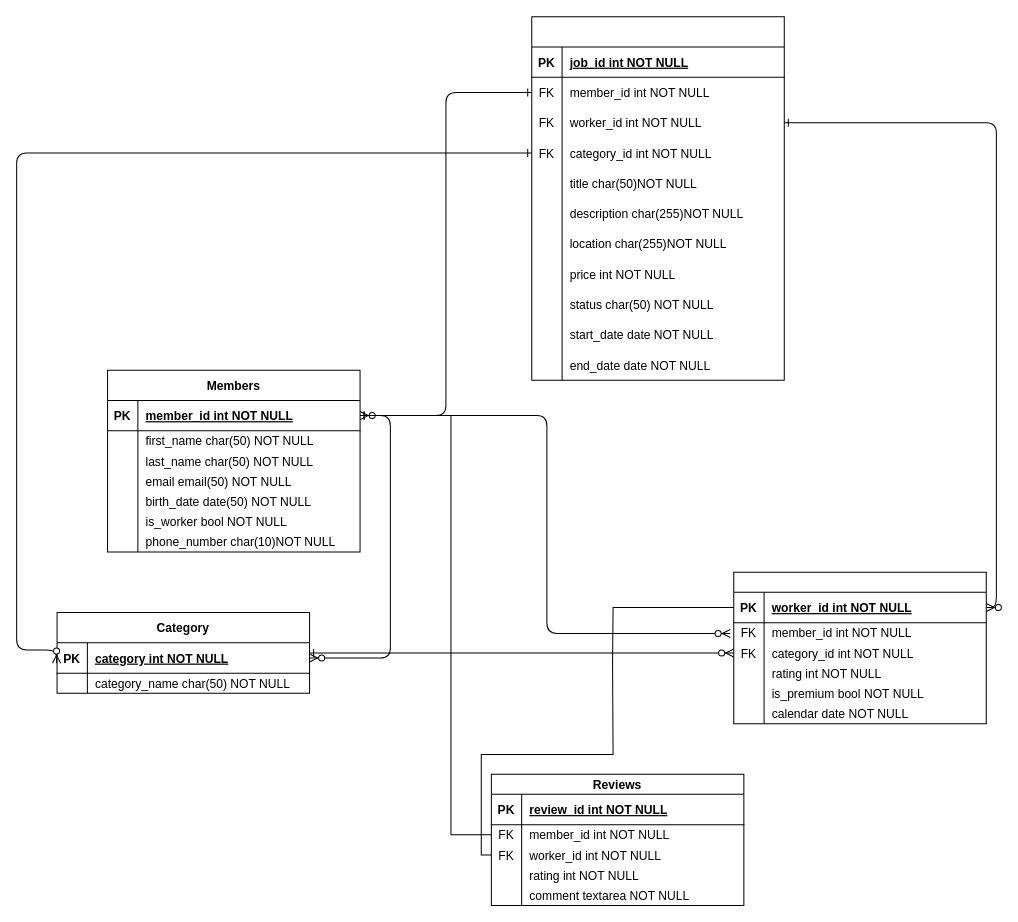
This 1018x922 diagram has some shape labels left out. The box of each missing label's shape, as (x1, y1, x2, y2) in pixels:
Jobs: (531, 16, 784, 380)
Workers: (733, 571, 986, 724)
